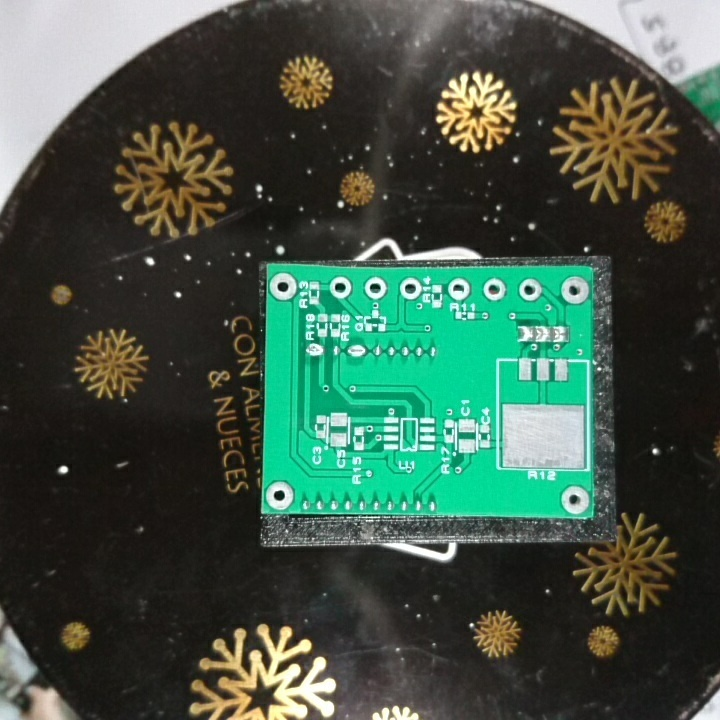F: (267, 270, 298, 303), (265, 480, 298, 511), (560, 484, 592, 515), (560, 275, 589, 306), (327, 275, 354, 301), (480, 278, 508, 303), (517, 276, 542, 303), (363, 275, 388, 301), (398, 277, 422, 303), (446, 278, 471, 302)
P: (344, 342, 368, 360), (304, 341, 326, 360)
